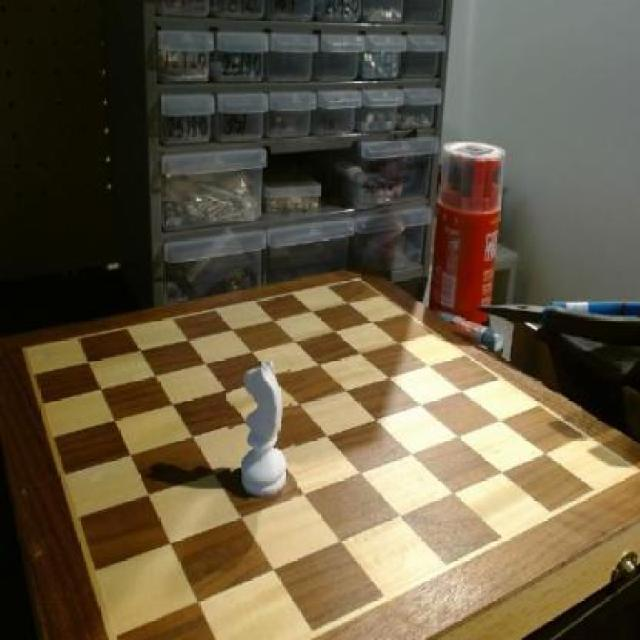white-king: (228, 365, 297, 502)
